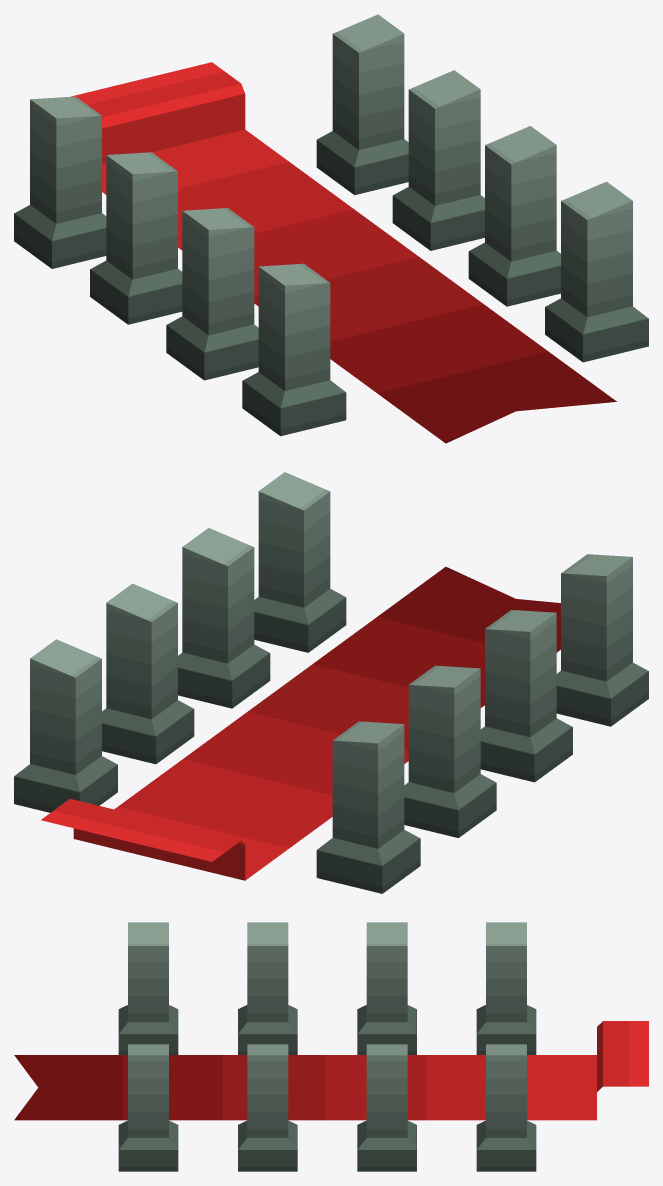
File: throne-road.fbx
The picture shows the model from 3 angles, top to bottom: view 1: azimuth 30°, elevation 25°; view 2: azimuth 150°, elevation 25°; view 3: azimuth 270°, elevation 25°; orthographic projection. The views are drawn at different scales.
Parts seen in each view (by area): view 1: Cube.045, Plane.027; view 2: Cube.045, Plane.027; view 3: Cube.045, Plane.027.
Boxes of the visible parts, box(x1,y1,x2,y2) form: Cube.045: box(14, 14, 648, 436); Plane.027: box(71, 62, 616, 443); Cube.045: box(14, 472, 648, 893); Plane.027: box(41, 567, 560, 880); Cube.045: box(118, 922, 536, 1171); Plane.027: box(14, 1021, 648, 1120).
Bounding box in the file's own units: 731 × 273 × 1392.
